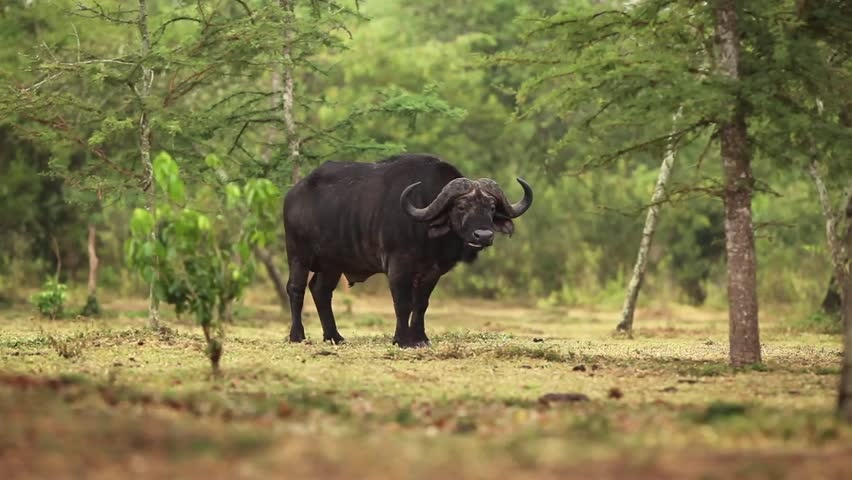buffalo: (406, 249, 659, 443)
